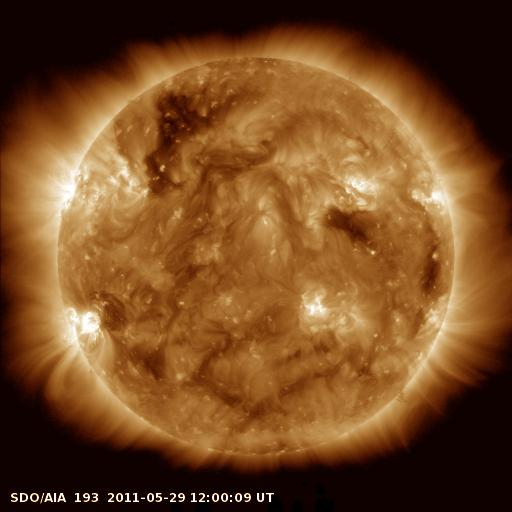coronal_hole: (143, 79, 234, 193), (321, 206, 381, 249), (416, 242, 443, 302)
